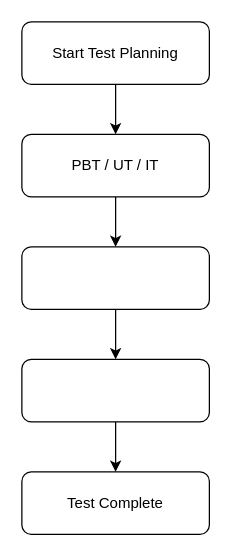
Image size: 231x556. Some labels were removed from this diagram. The shapes that lost their labels are listed below. From the top down, each one's centre as x and y in pixels, then its label:
At point 115,277: "E2E-API / E2E-UI".
At point 115,390: "SIT Manual".
